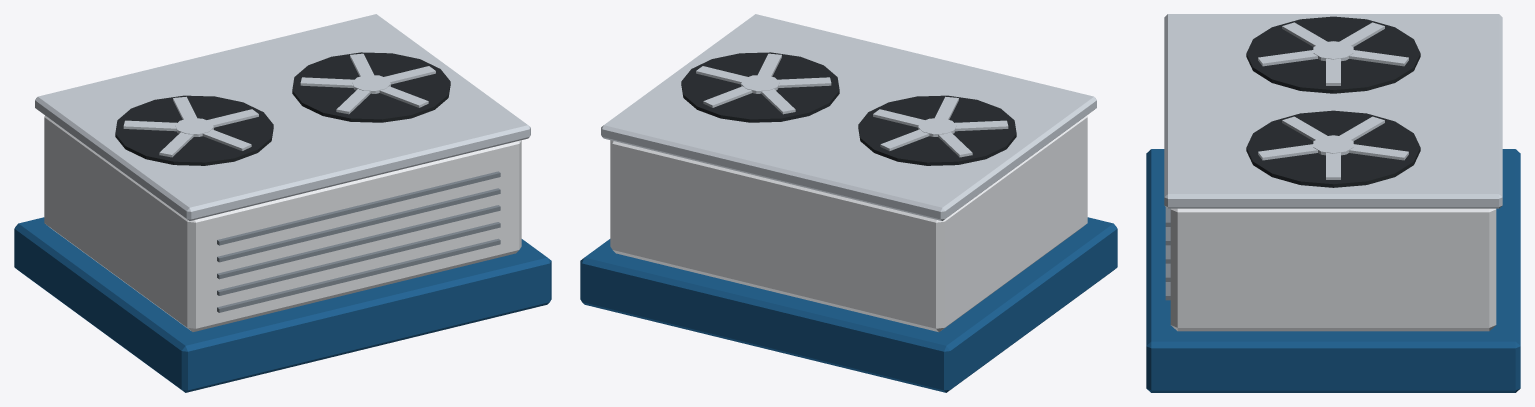
The model's file is SM_MPR3_RoofHVAC.fbx.
3 renders of one model, left to right at view 1: azimuth 30°, elevation 25°; view 2: azimuth 150°, elevation 25°; view 3: azimuth 270°, elevation 25°, orthographic. The views are drawn at different scales.
Visible parts, largest first — view 1: SM_MPR3_RoofHVAC; view 2: SM_MPR3_RoofHVAC; view 3: SM_MPR3_RoofHVAC.
Part boxes in pixels (x1,y1,x2,y2): SM_MPR3_RoofHVAC: [14, 14, 551, 392]; SM_MPR3_RoofHVAC: [580, 14, 1117, 392]; SM_MPR3_RoofHVAC: [1146, 14, 1520, 392].
Bounding box in the file's own units: 230 × 185 × 109.
